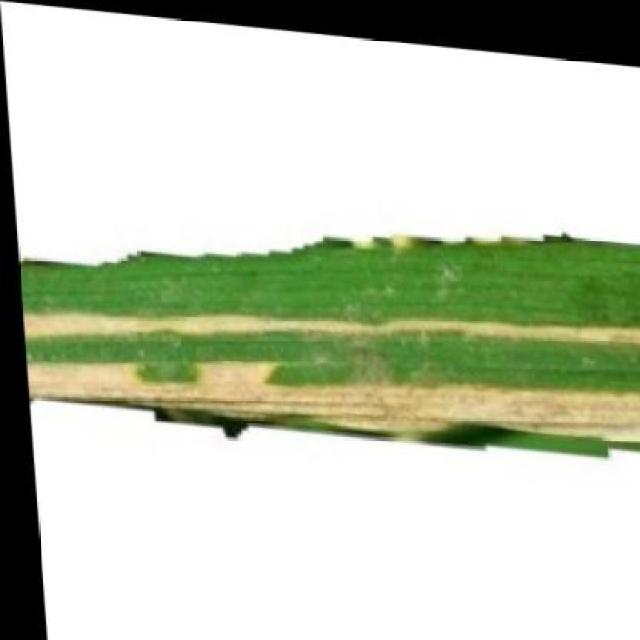Brown_Spot: (9, 170, 640, 475)
